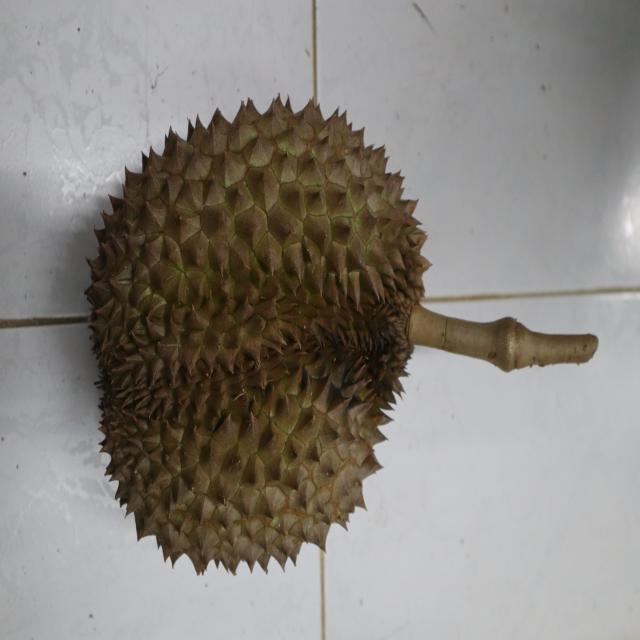mature: (82, 94, 432, 580)
